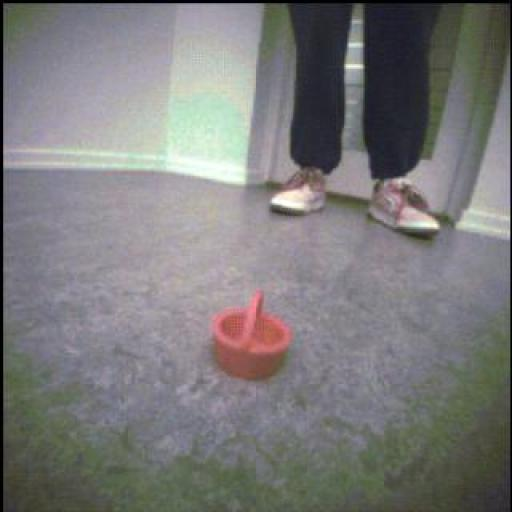Bucket: (214, 292, 294, 380)
